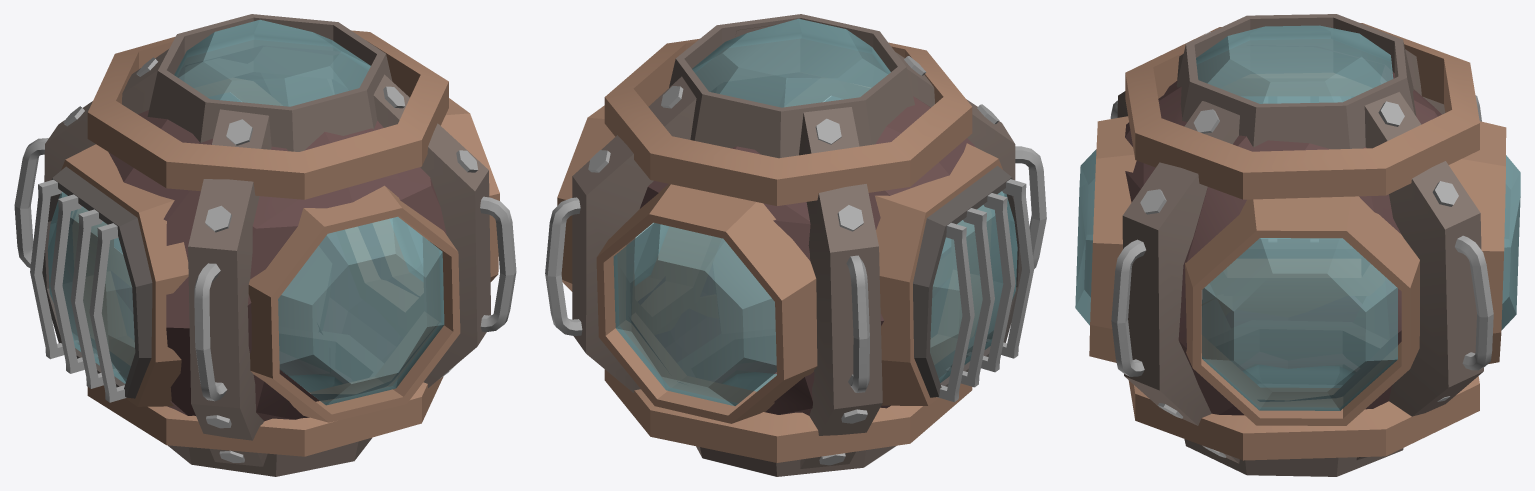
The model's file is hamster bal.fbx.
3 renders of one model, left to right at view 1: azimuth 30°, elevation 25°; view 2: azimuth 150°, elevation 25°; view 3: azimuth 270°, elevation 25°, orthographic.
Parts seen in each view (by area): view 1: bal, deurtje; view 2: bal, deurtje; view 3: bal, deurtje.
Part boxes in pixels (x1=…): bal: x1=14, y1=14, x2=516, y2=476; deurtje: x1=30, y1=166, x2=152, y2=402; bal: x1=545, y1=14, x2=1046, y2=476; deurtje: x1=913, y1=166, x2=1034, y2=402; bal: x1=1075, y1=14, x2=1520, y2=476; deurtje: x1=1238, y1=96, x2=1361, y2=258.
Size of the model in its own units: 6.43 by 5.98 by 6.03.
